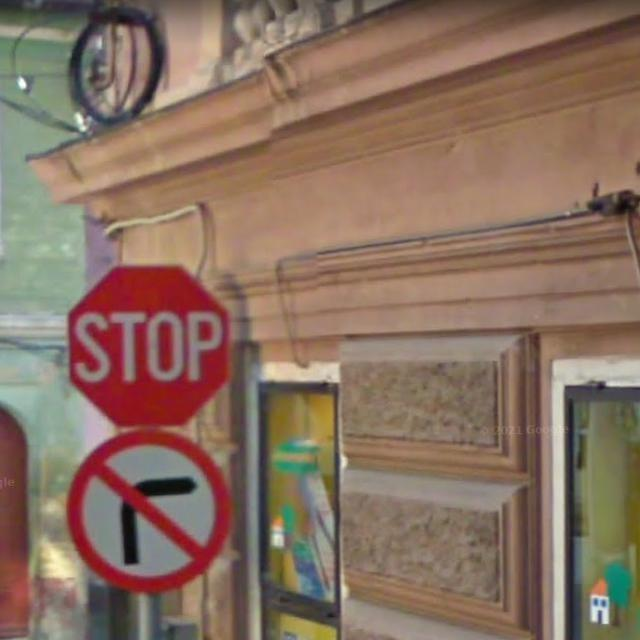prio_stop: (64, 264, 232, 428)
